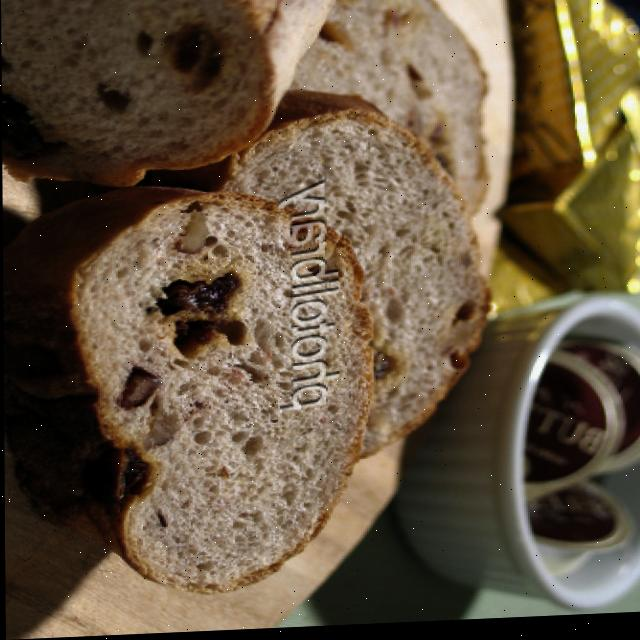面包点心: (0, 0, 496, 571)
